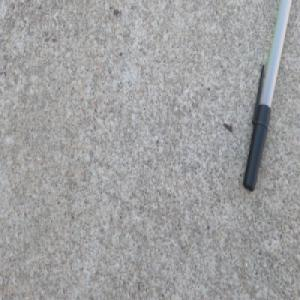Pen: (241, 0, 294, 193)
